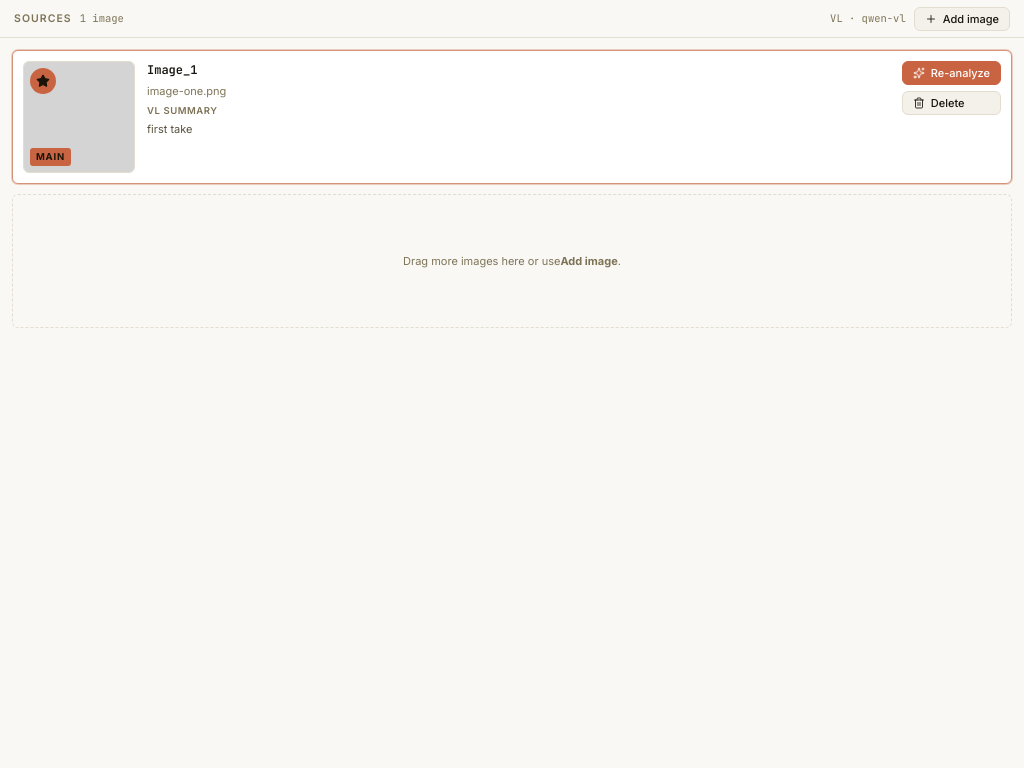
Test: SourceImagesPane › Re-analyze button opens the analyze modal pre-filled with prior refining prompt
Click the button "Re-analyze" at (951, 73), box [902,61,1001,85]
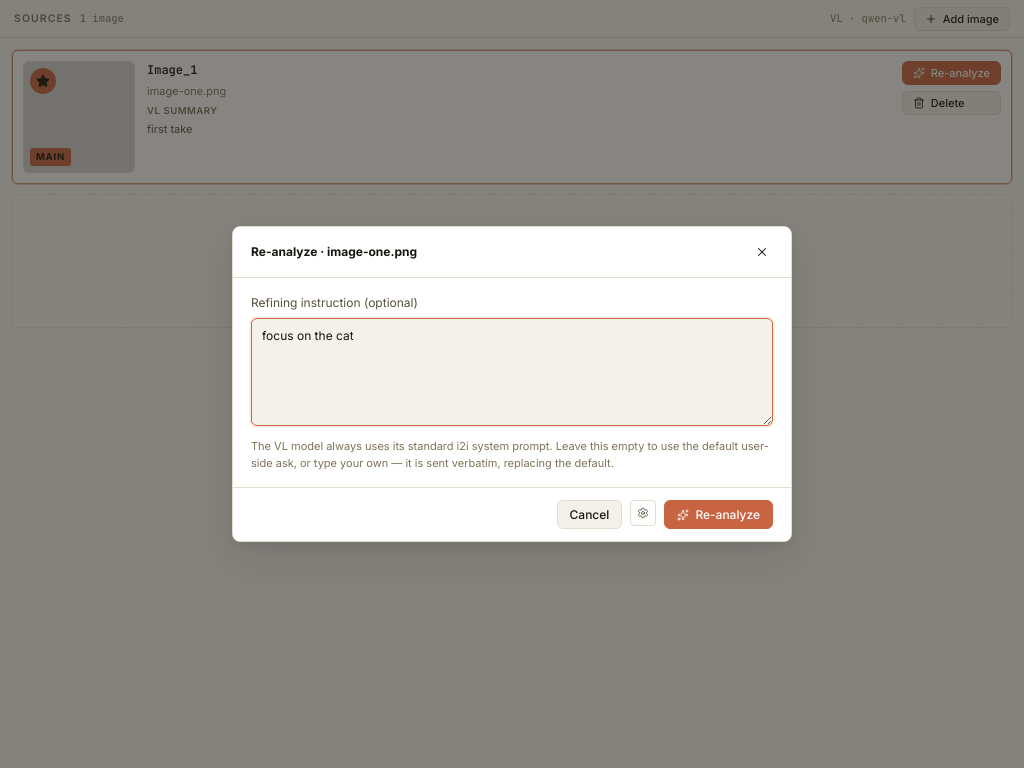
Check: the text box holds "focus on the cat", box [251,318,773,426]
